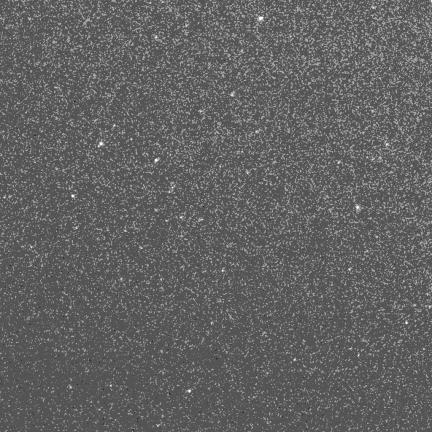blob: (259, 17, 263, 21), (188, 389, 191, 393), (405, 321, 408, 325)
